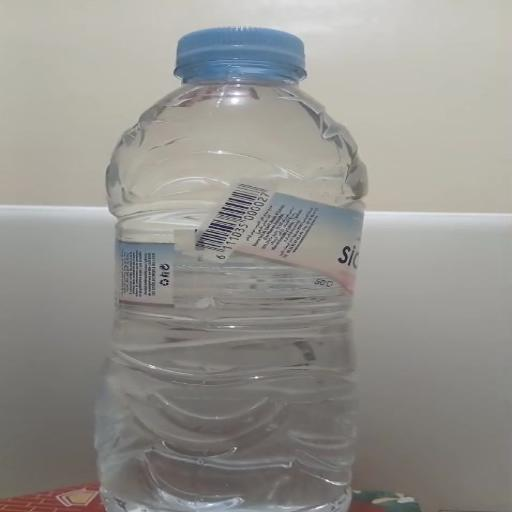bouteille non conformite: (118, 41, 401, 512), (84, 185, 418, 323)
